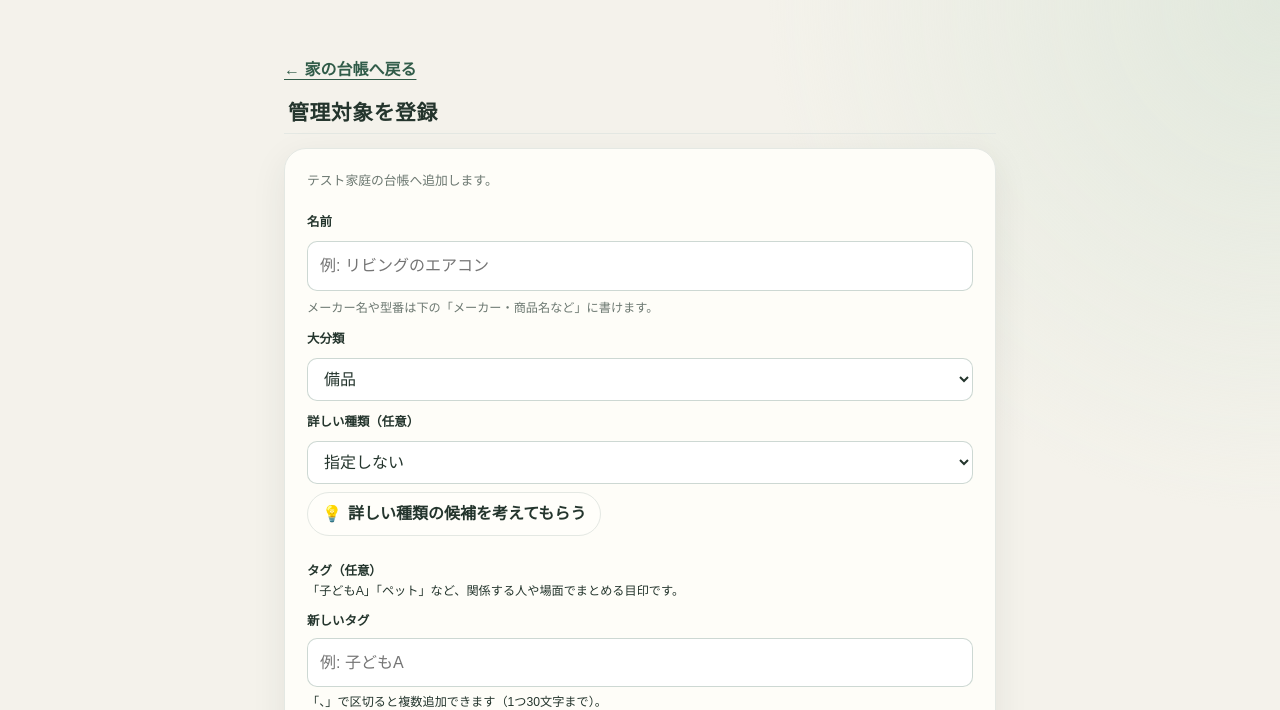
Test: 登録・編集の自由入力(詳しい種類)候補(Issue #288) › 一致する候補がなくても、新しい種類をそのまま入力できる
The width and height of the screenshot is (1280, 710).
Select "サービス" in the dropdown labelled "大分類" at point(640, 380), box left=307, top=358, right=973, bottom=401
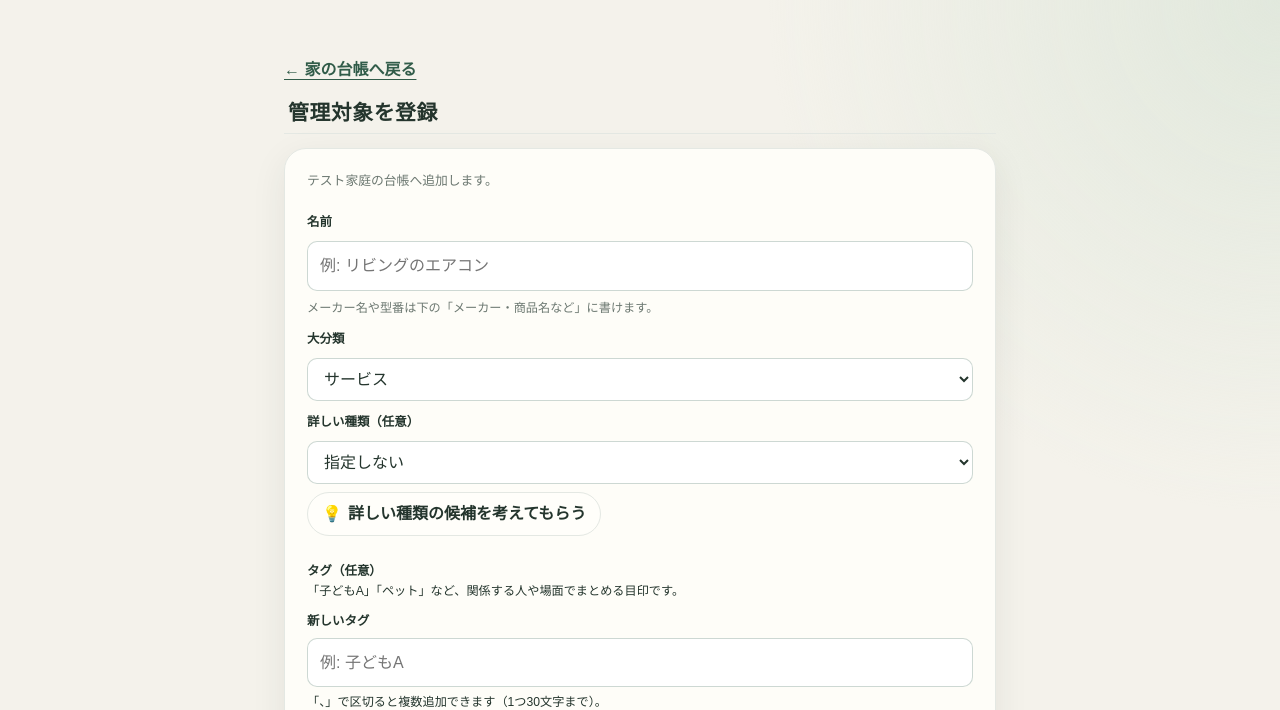
Select "その他（自由入力）" in the dropdown labelled "詳しい種類（任意）" at point(640, 463), box left=307, top=441, right=973, bottom=484
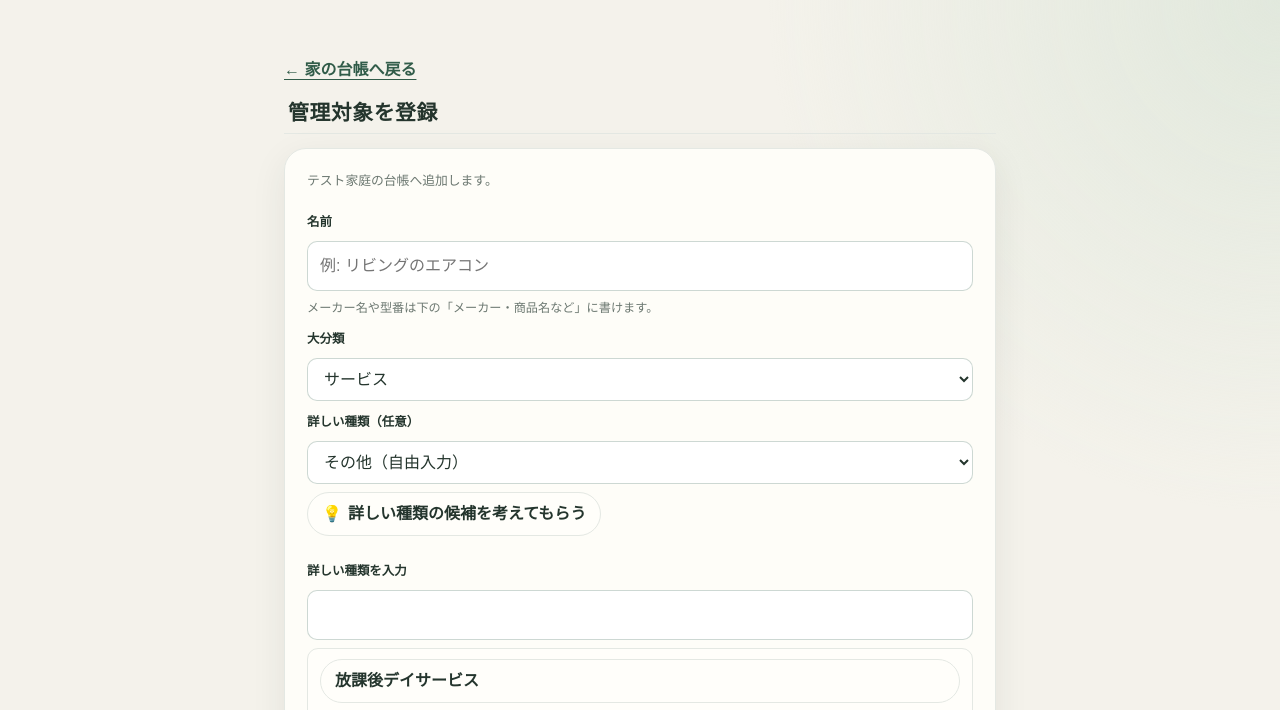
Type "訪問リハビリ" into the field labelled "詳しい種類を入力" at point(640, 615), box left=307, top=590, right=973, bottom=640
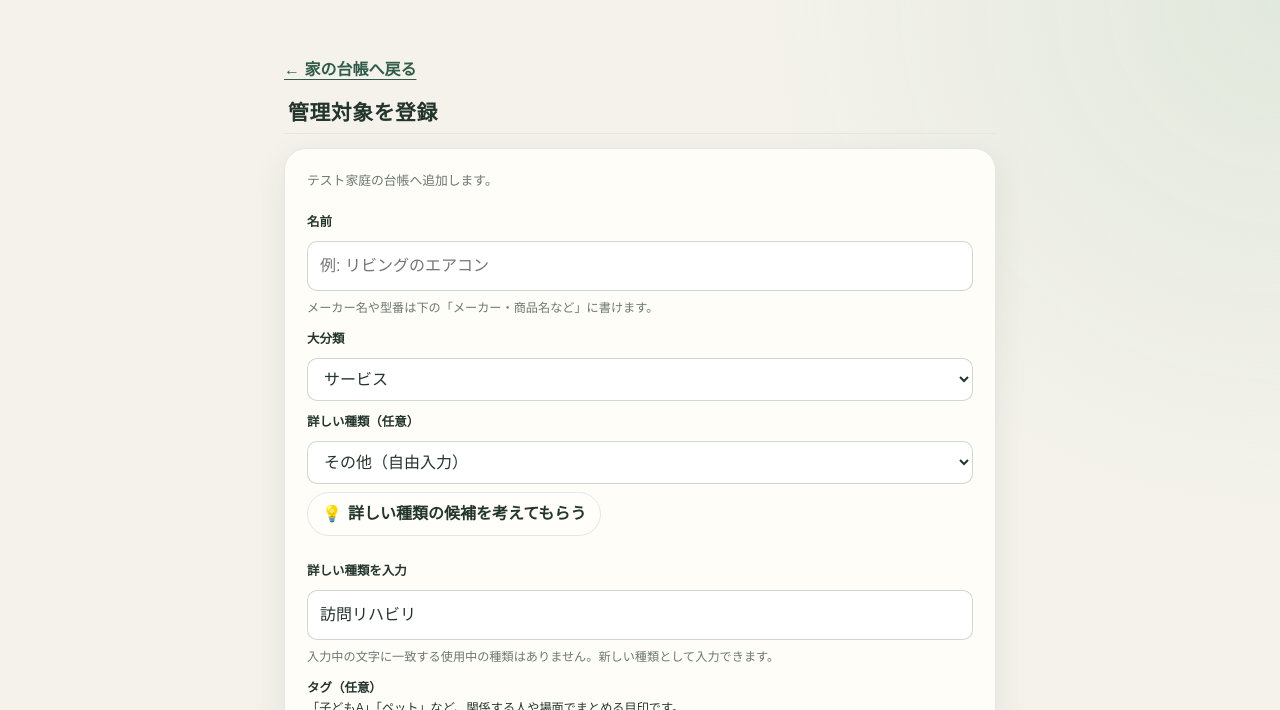
expect the text "入力中の文字に一致する使用中の種類はありません。新しい種類として入力できます。" is shown: met, box left=307, top=650, right=779, bottom=664
